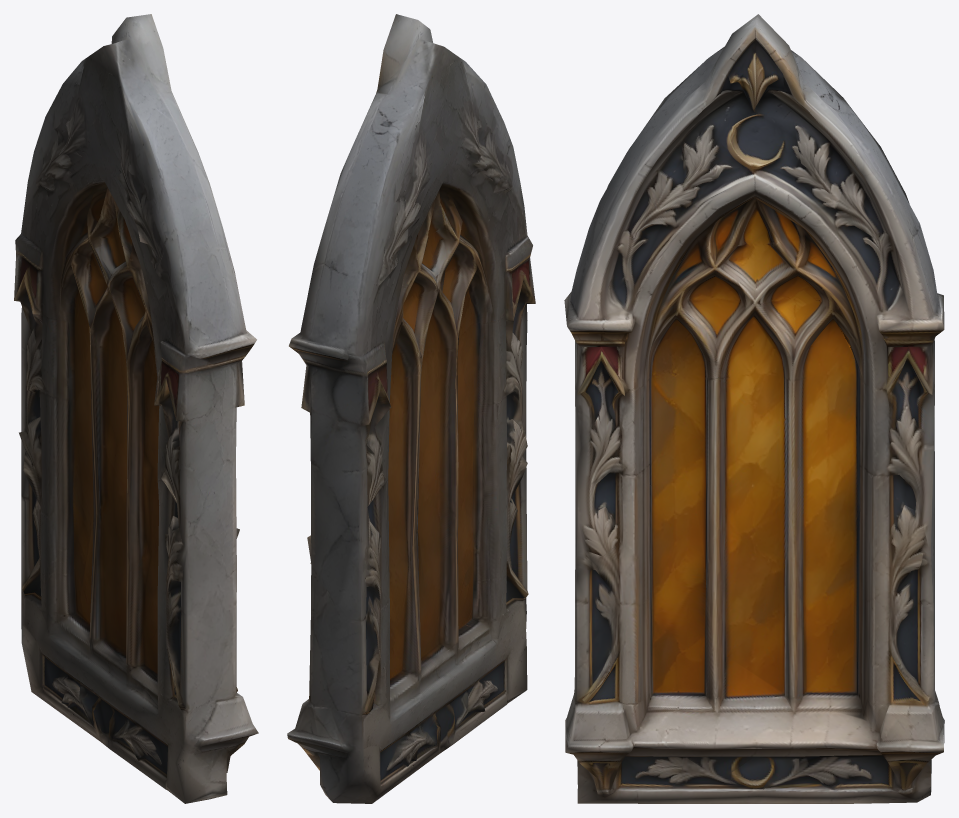
File: castle_window_source.glb
The picture shows the model from 3 angles, left to right: view 1: azimuth 30°, elevation 25°; view 2: azimuth 150°, elevation 25°; view 3: azimuth 270°, elevation 25°; orthographic projection. The views are drawn at different scales.
Visible parts, largest first — view 1: tripo_node_636fb07b-3ae1-4828-8e7d-decea51f0a45; view 2: tripo_node_636fb07b-3ae1-4828-8e7d-decea51f0a45; view 3: tripo_node_636fb07b-3ae1-4828-8e7d-decea51f0a45.
Boxes of the visible parts, x1,y1,x2,y2 form: tripo_node_636fb07b-3ae1-4828-8e7d-decea51f0a45: (14, 14, 258, 803); tripo_node_636fb07b-3ae1-4828-8e7d-decea51f0a45: (287, 14, 535, 803); tripo_node_636fb07b-3ae1-4828-8e7d-decea51f0a45: (564, 14, 944, 803).
Size of the model in its own units: 0.1127 by 0.9781 by 0.4317.
1 material, 1 textured.
